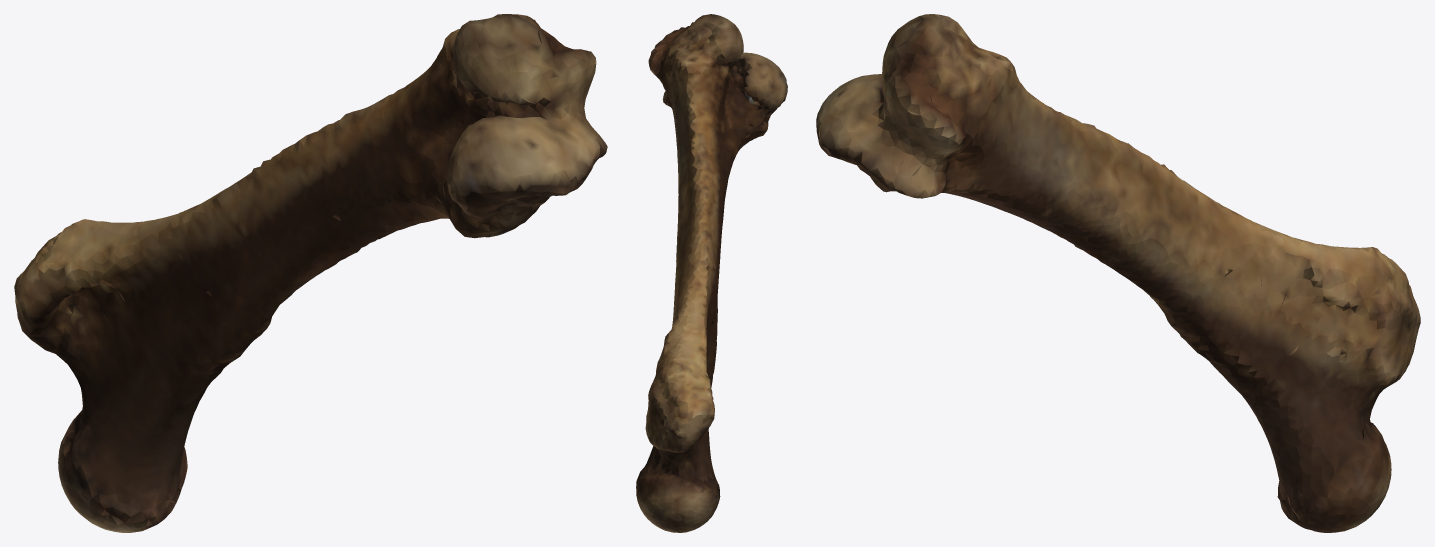
The model's file is 4final_full_mastadon_bone.fbx.
3 views of the same model, side by side, from view 1: azimuth 30°, elevation 25°; view 2: azimuth 150°, elevation 25°; view 3: azimuth 270°, elevation 25° (orthographic). The views are drawn at different scales.
Visible parts, largest first — view 1: 4298_mastodon_right_femur.001; view 2: 4298_mastodon_right_femur.001; view 3: 4298_mastodon_right_femur.001.
Boxes of the visible parts, left/top/right/bottom form: 4298_mastodon_right_femur.001: left=14, top=14, right=607, bottom=532; 4298_mastodon_right_femur.001: left=636, top=14, right=787, bottom=532; 4298_mastodon_right_femur.001: left=816, top=14, right=1420, bottom=532.
Bounding box in the file's own units: 8602 × 15543 × 14635.
